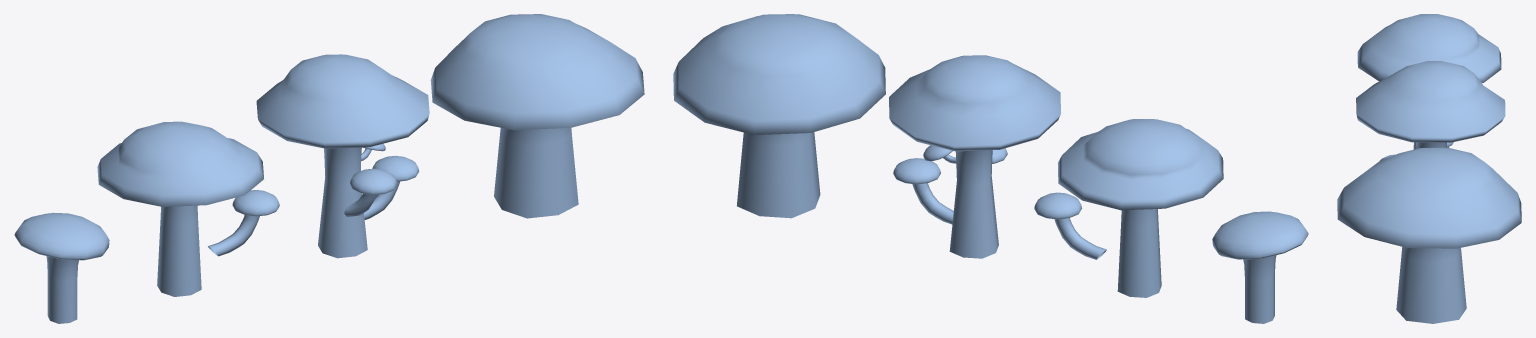
File: Mushrooms_Uvandmeshnotextureyet_v2_gamejam2024.fbx
3 views of the same model, side by side, from view 1: azimuth 30°, elevation 25°; view 2: azimuth 150°, elevation 25°; view 3: azimuth 270°, elevation 25° (orthographic). The views are drawn at different scales.
Parts seen in each view (by area): view 1: polySurface13, polySurface7, polySurface5, polySurface14, polySurface8, polySurface6, polySurface1, polySurface2, polySurface9, polySurface3, polySurface4, polySurface11 (+1 smaller); view 2: polySurface13, polySurface7, polySurface5, polySurface14, polySurface8, polySurface1, polySurface6, polySurface2, polySurface3, polySurface11, polySurface4, polySurface12; view 3: polySurface13, polySurface7, polySurface5, polySurface14, polySurface8.
Part boxes in pixels (x1=…): polySurface13: x1=430, y1=14, x2=644, y2=130; polySurface7: x1=256, y1=54, x2=429, y2=148; polySurface5: x1=97, y1=121, x2=263, y2=206; polySurface14: x1=494, y1=128, x2=578, y2=218; polySurface8: x1=318, y1=147, x2=367, y2=258; polySurface6: x1=157, y1=205, x2=201, y2=296; polySurface1: x1=14, y1=212, x2=109, y2=260; polySurface2: x1=46, y1=256, x2=78, y2=323; polySurface9: x1=350, y1=168, x2=396, y2=194; polySurface3: x1=232, y1=190, x2=279, y2=216; polySurface4: x1=208, y1=215, x2=259, y2=256; polySurface11: x1=372, y1=155, x2=419, y2=181; polySurface13: x1=673, y1=14, x2=885, y2=134; polySurface7: x1=889, y1=55, x2=1060, y2=151; polySurface5: x1=1058, y1=119, x2=1223, y2=210; polySurface14: x1=737, y1=132, x2=820, y2=218; polySurface8: x1=949, y1=150, x2=998, y2=258; polySurface1: x1=1212, y1=211, x2=1308, y2=259; polySurface6: x1=1117, y1=209, x2=1161, y2=297; polySurface2: x1=1243, y1=255, x2=1276, y2=323; polySurface3: x1=1034, y1=192, x2=1081, y2=219; polySurface11: x1=893, y1=158, x2=940, y2=184; polySurface4: x1=1054, y1=218, x2=1106, y2=259; polySurface12: x1=912, y1=183, x2=953, y2=224; polySurface13: x1=1337, y1=147, x2=1521, y2=248; polySurface7: x1=1356, y1=61, x2=1505, y2=142; polySurface5: x1=1357, y1=14, x2=1501, y2=82; polySurface14: x1=1396, y1=247, x2=1466, y2=323; polySurface8: x1=1416, y1=142, x2=1446, y2=148.
Size of the model in its own units: 28.82 by 8.45 by 8.81.
